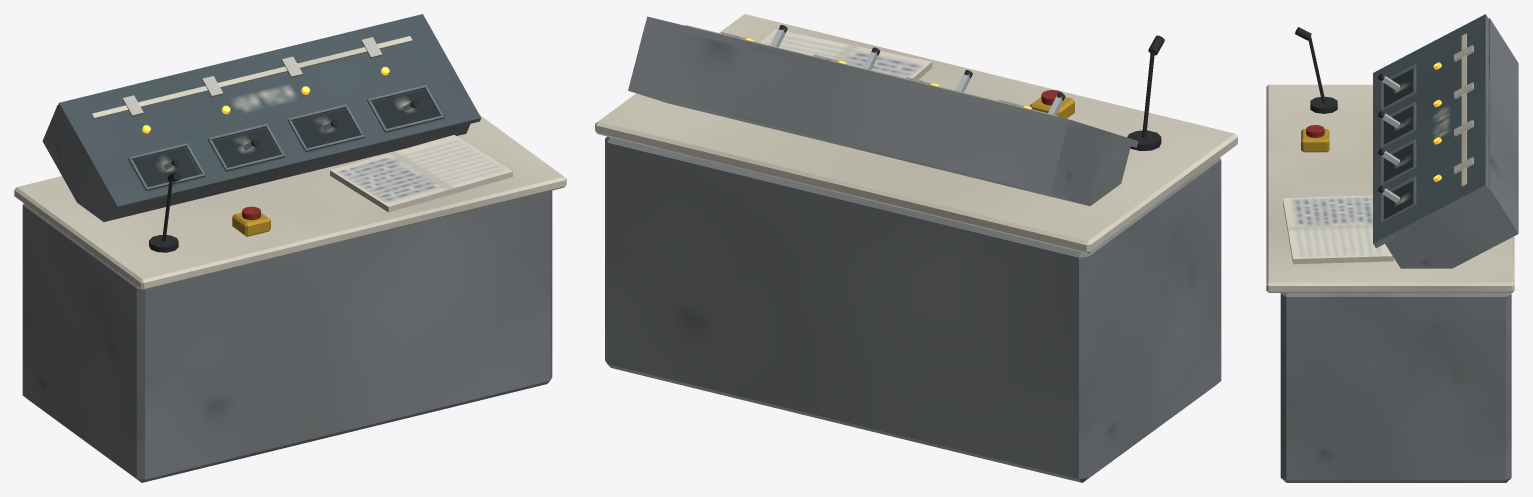
The model's file is control_desk.fbx.
3 views of the same model, side by side, from view 1: azimuth 30°, elevation 25°; view 2: azimuth 150°, elevation 25°; view 3: azimuth 270°, elevation 25° (orthographic). The views are drawn at different scales.
Visible parts, largest first — view 1: control_desk, control_desk_log, control_desk_microphone; view 2: control_desk, control_desk_log, control_desk_microphone; view 3: control_desk, control_desk_log, control_desk_microphone.
Boxes of the visible parts, x1,y1,x2,y2 form: control_desk: (14,14,566,482); control_desk_log: (330,135,512,212); control_desk_microphone: (149,172,181,252); control_desk: (595,14,1237,482); control_desk_log: (760,29,932,79); control_desk_microphone: (1127,35,1164,150); control_desk: (1266,14,1518,482); control_desk_log: (1283,195,1393,264); control_desk_microphone: (1295,27,1337,113).
Bounding box in the file's own units: 1.64 × 1.1 × 0.8742.
1 material, 1 textured.
